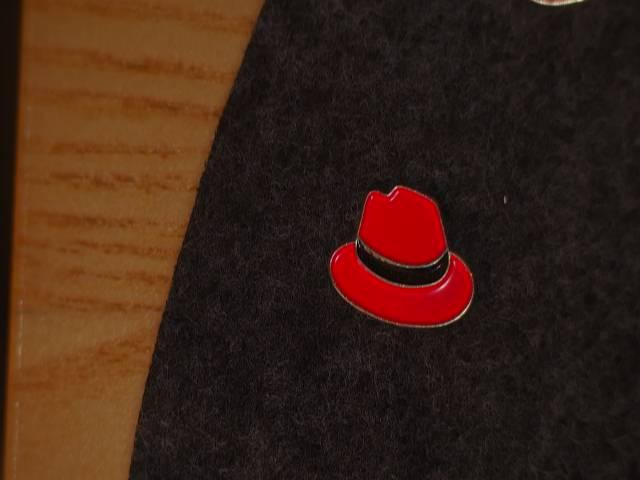Red-Hat: (308, 172, 501, 342)
